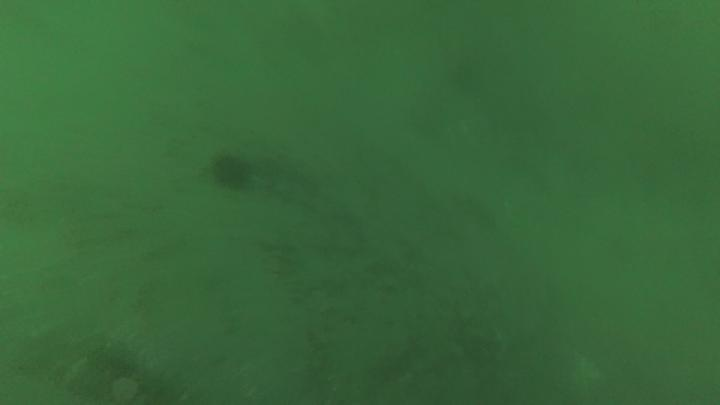echinus: (209, 150, 255, 193)
scallop: (108, 374, 142, 404)
